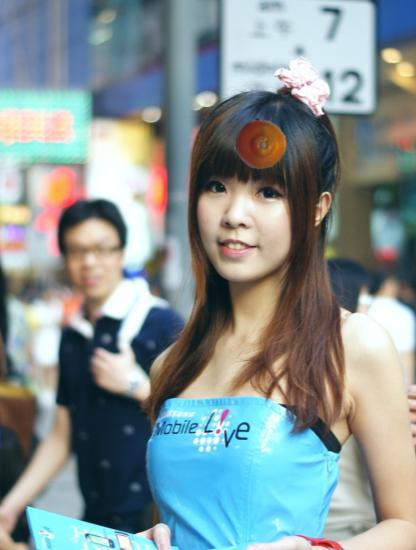Tangelo: (234, 117, 287, 170)
